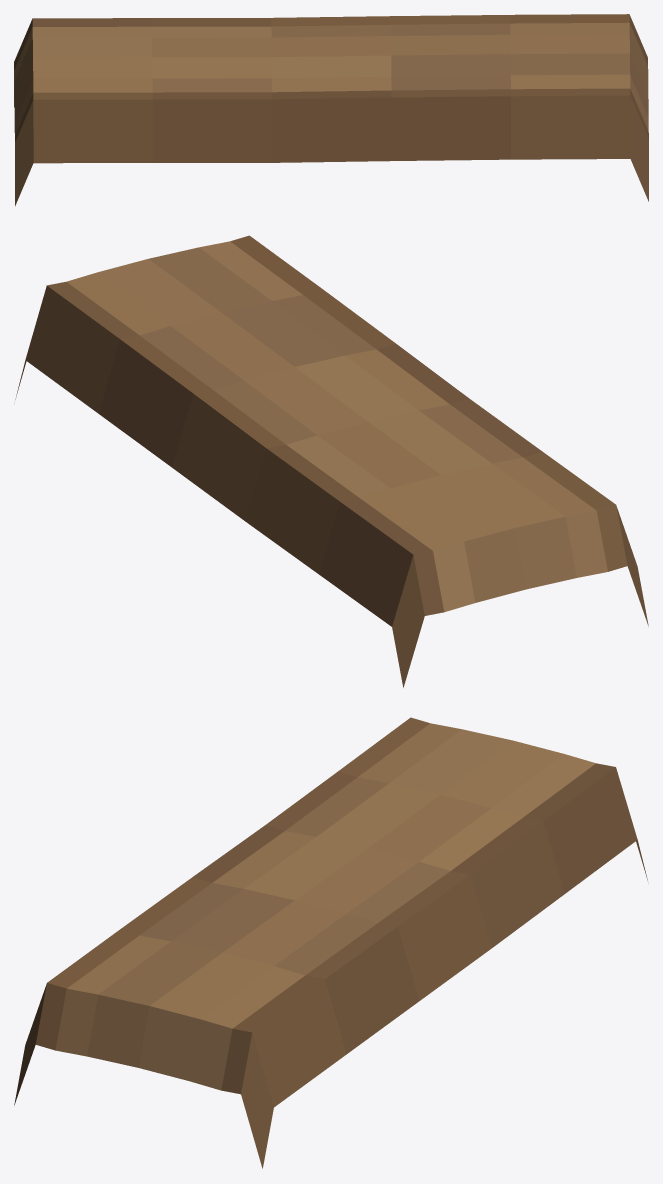
File: road_plot_path_1.glb
3 renders of one model, top to bottom at view 1: azimuth 30°, elevation 25°; view 2: azimuth 150°, elevation 25°; view 3: azimuth 270°, elevation 25°, orthographic. The views are drawn at different scales.
Visible parts, largest first — view 1: road_plot_path_1; view 2: road_plot_path_1; view 3: road_plot_path_1.
Part boxes in pixels (box(x1,y1,x2,y2)): road_plot_path_1: box(14, 14, 648, 206); road_plot_path_1: box(15, 235, 648, 687); road_plot_path_1: box(14, 717, 647, 1168).
Bounding box in the file's own units: 17.99 × 3.07 × 13.97.
Materials: 1 (1 with a texture image).
